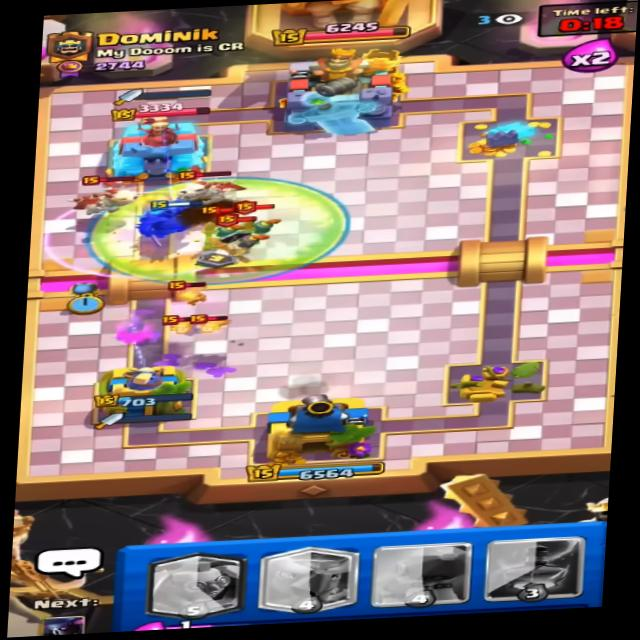guards: (189, 216, 244, 258), (244, 204, 292, 251)
skeleton-dragon: (167, 167, 237, 217), (73, 174, 142, 217)
